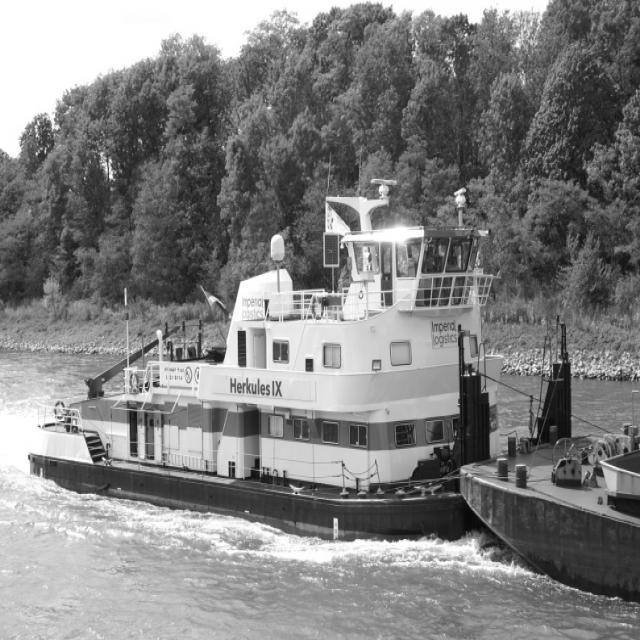tugboat: (22, 175, 509, 569)
